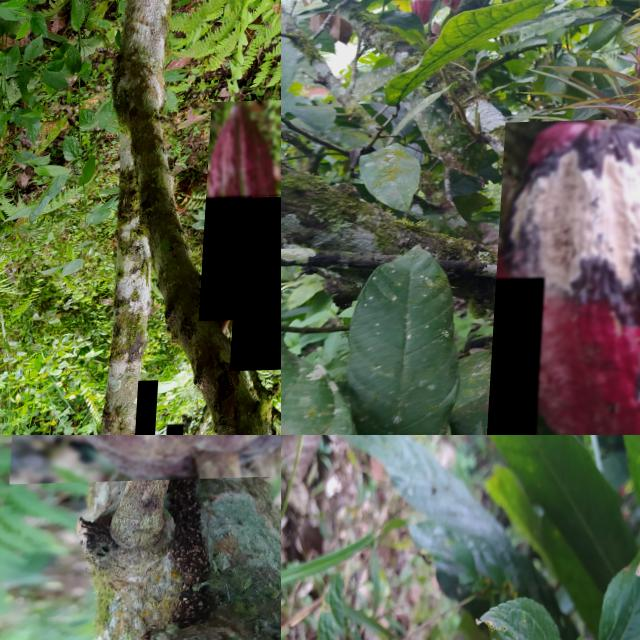Fitoftora: (15, 435, 281, 484), (235, 196, 281, 372), (139, 381, 163, 435)
Monilia: (492, 118, 640, 435)
Sana: (203, 101, 281, 322)
